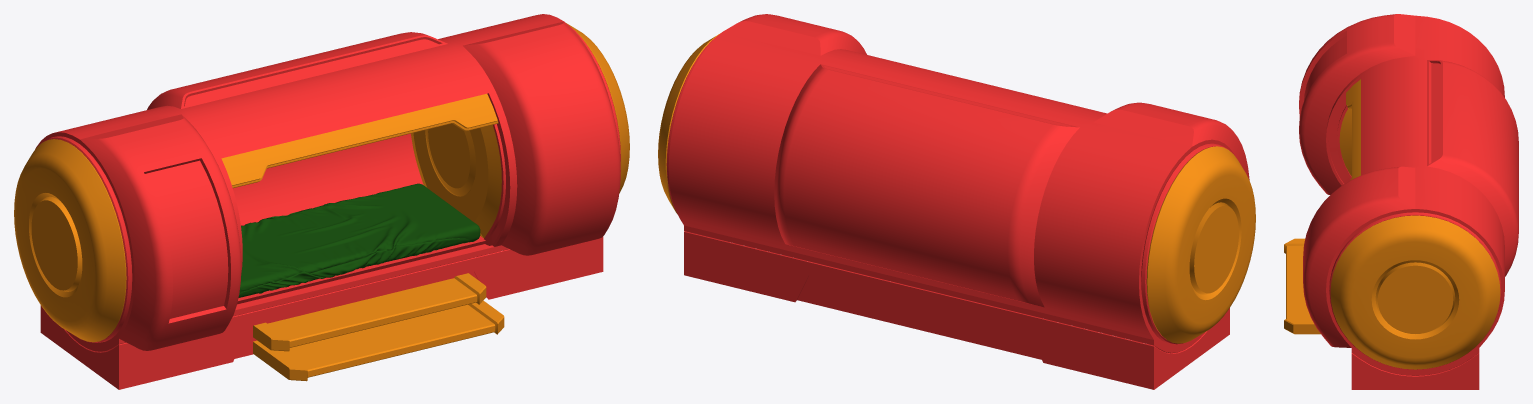
File: Prop016.fbx
3 renders of one model, left to right at view 1: azimuth 30°, elevation 25°; view 2: azimuth 150°, elevation 25°; view 3: azimuth 270°, elevation 25°, orthographic. The views are drawn at different scales.
Visible parts, largest first — view 1: P016; view 2: P016; view 3: P016.
Boxes of the visible parts, left/top/right/bottom form: P016: left=14, top=14, right=629, bottom=389; P016: left=658, top=14, right=1255, bottom=389; P016: left=1284, top=14, right=1518, bottom=389.
Bounding box in the file's own units: 204 × 82.21 × 93.28.
